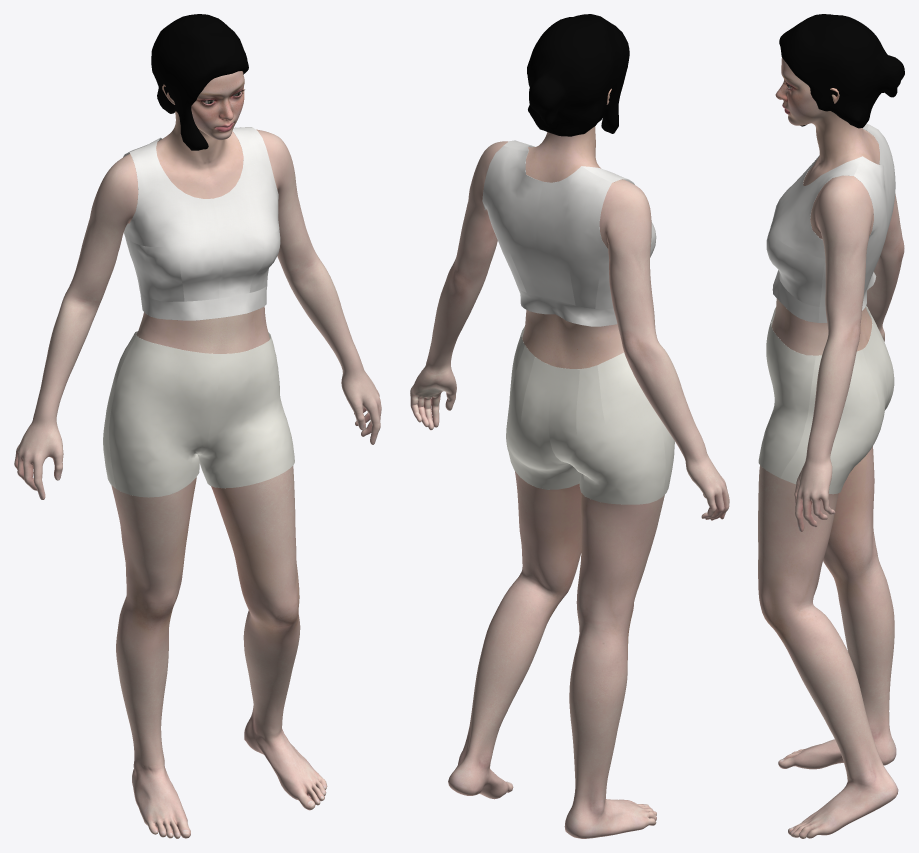
File: Dynamic_2.obj
3 views of the same model, side by side, from view 1: azimuth 30°, elevation 25°; view 2: azimuth 150°, elevation 25°; view 3: azimuth 270°, elevation 25° (orthographic). The views are drawn at different scales.
Bounding box in the file's own units: 775 × 1773 × 305.
